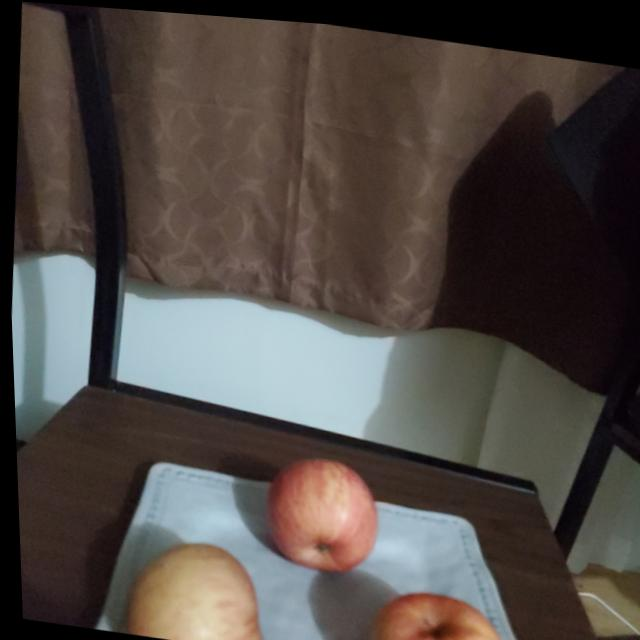apple: (258, 444, 383, 573), (120, 530, 264, 640), (358, 579, 508, 640)
